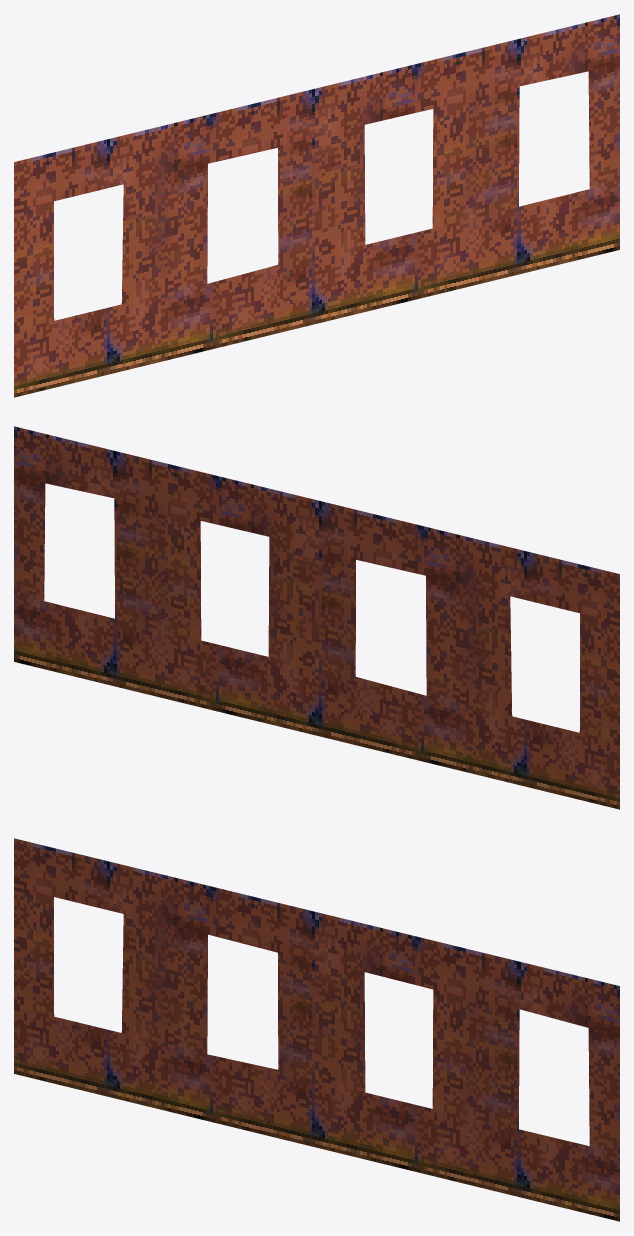
The model's file is W_AI1_ffff [Geschmacklos]_1705.glb.
The picture shows the model from 3 angles, top to bottom: view 1: azimuth 30°, elevation 25°; view 2: azimuth 150°, elevation 25°; view 3: azimuth 330°, elevation 25°; orthographic projection.
Visible parts, largest first — view 1: innenpolySurface601Shape; view 2: innenpolySurface601Shape; view 3: innenpolySurface601Shape.
Part boxes in pixels (bbox=[...]): innenpolySurface601Shape: bbox=[14, 14, 619, 397]; innenpolySurface601Shape: bbox=[14, 426, 619, 809]; innenpolySurface601Shape: bbox=[14, 838, 619, 1221].
Size of the model in its own units: 0.9385 by 0.3486 by 1.31e-07.
1 material, 1 textured.
